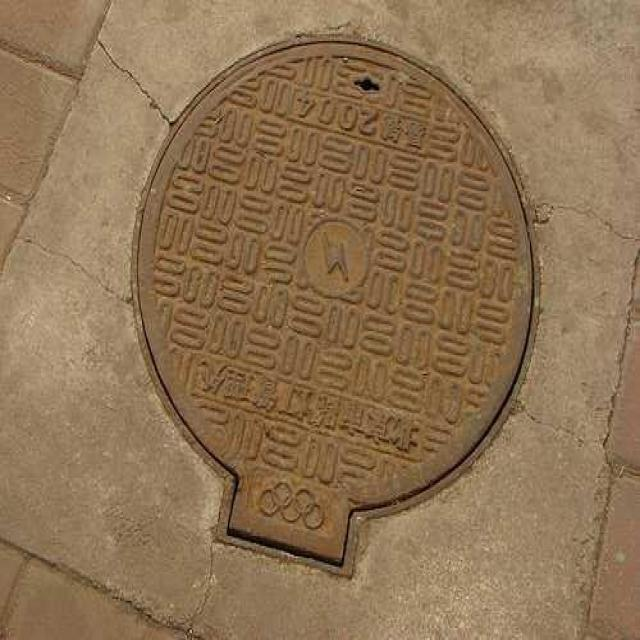manhole: (129, 34, 538, 580)
